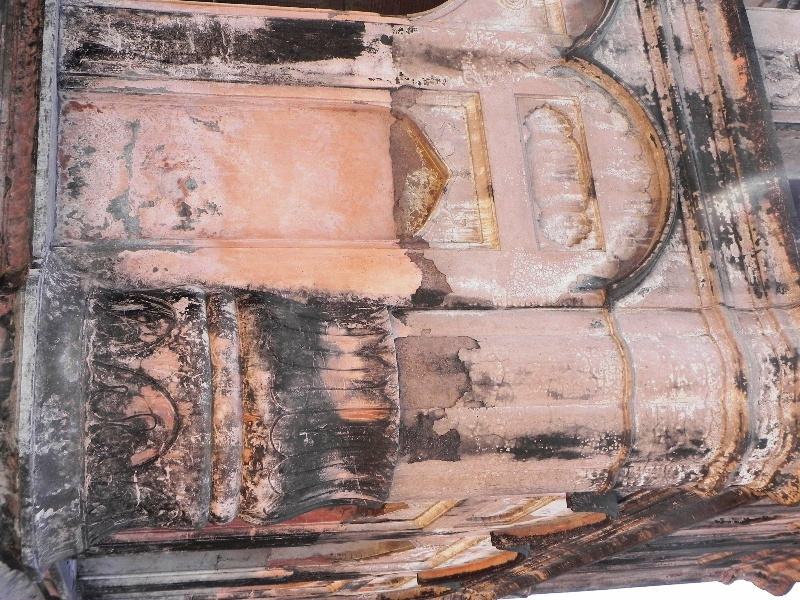Spalling: (385, 78, 422, 218), (402, 247, 457, 308)
